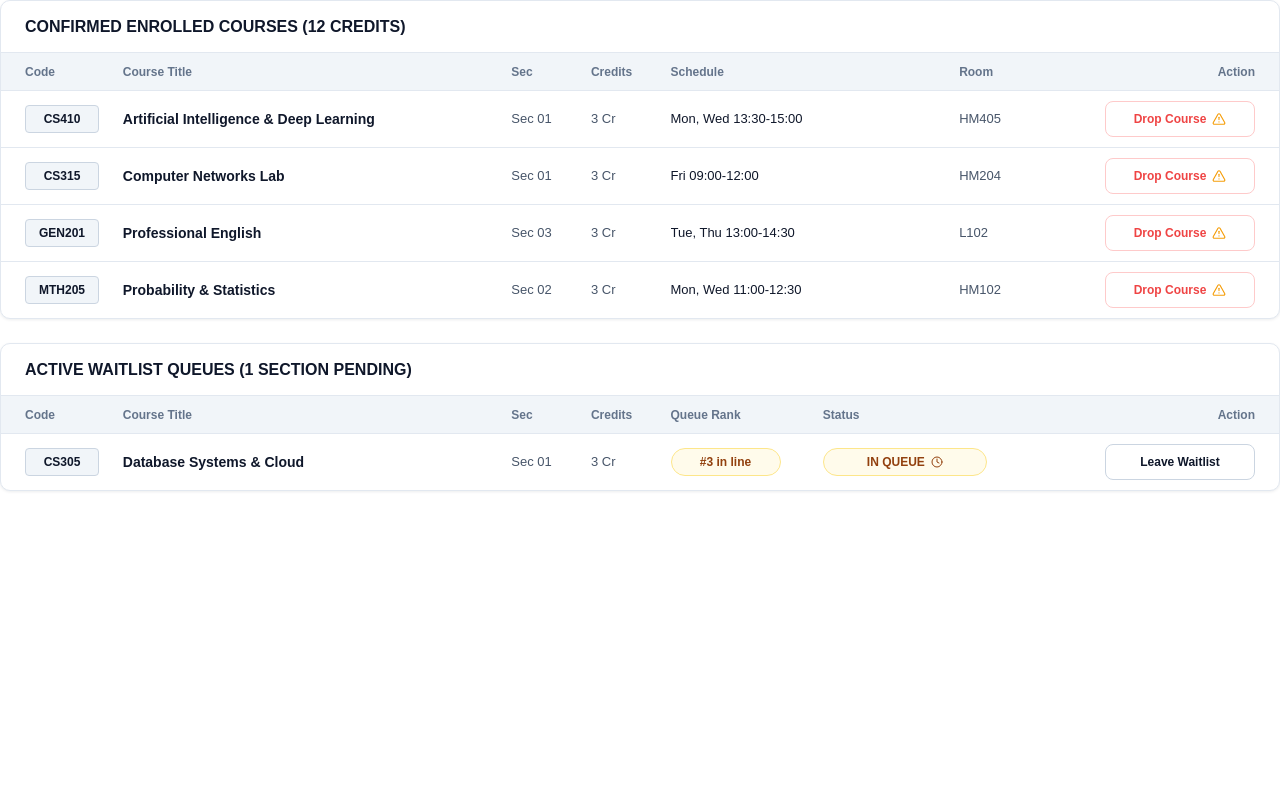
Test: RegisteredPage › drops the course after confirming
Expected: the text "Artificial Intelligence & Deep Learning" is shown, [123,111,375,127]
What coordinates should you click on to do the following:
click the button "Drop Course" next to "HM405"
I would click on:
 (1180, 119)
Its box is [1105,101,1255,137].
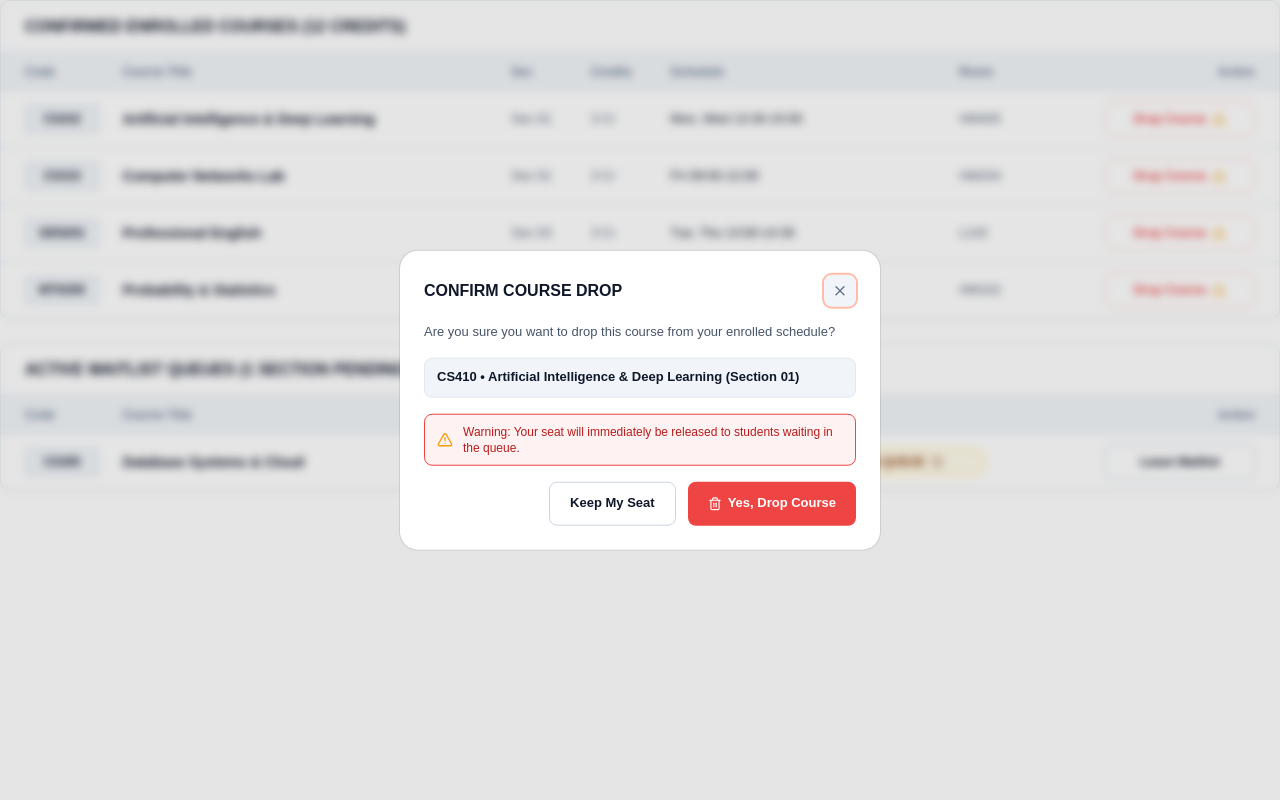
What coordinates should you click on to do the following:
click the button "Yes, Drop Course"
I would click on:
 (772, 503)
Its box is [688,481,856,525].
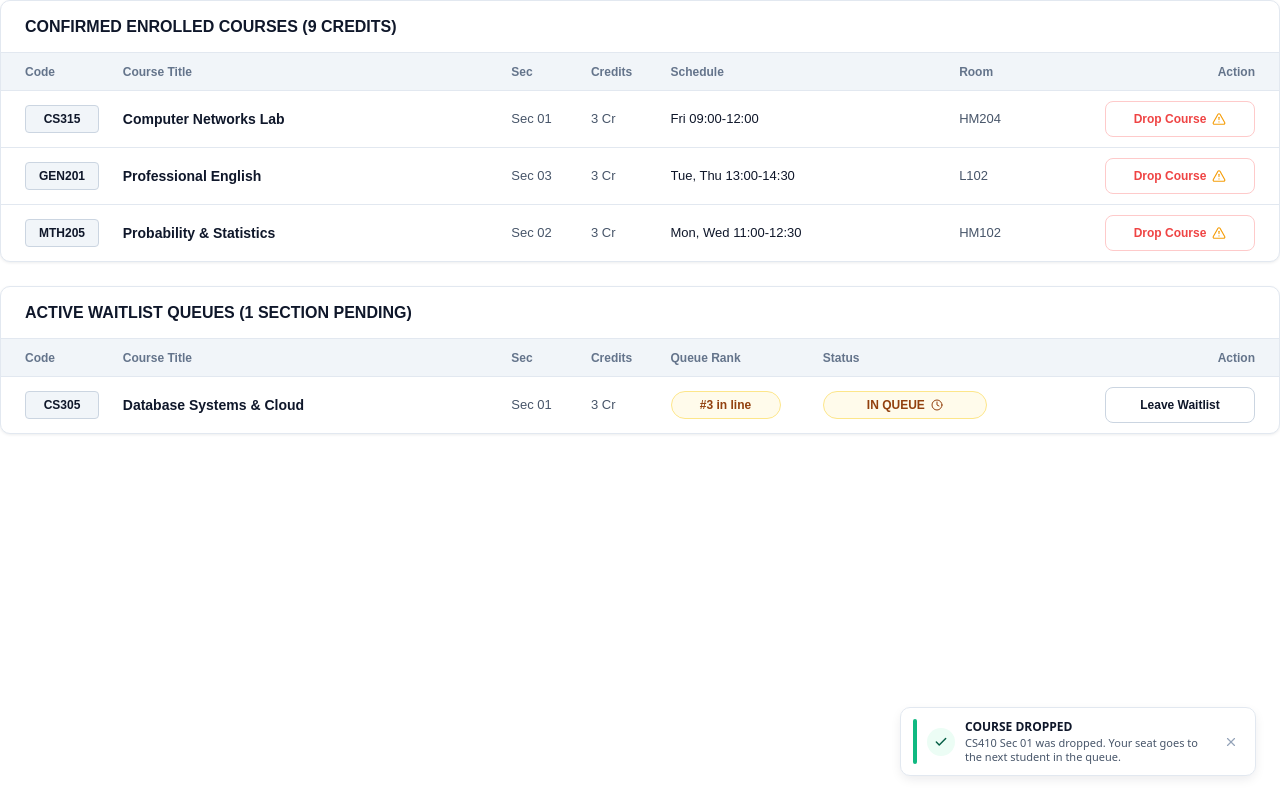
Result: the text "Course dropped" is shown at [965,718,1072,735]
Result: the text "Artificial Intelligence & Deep Learning" is gone
Result: the heading "Confirmed Enrolled Courses (9 Credits)" is shown at [1,1,1279,53]
